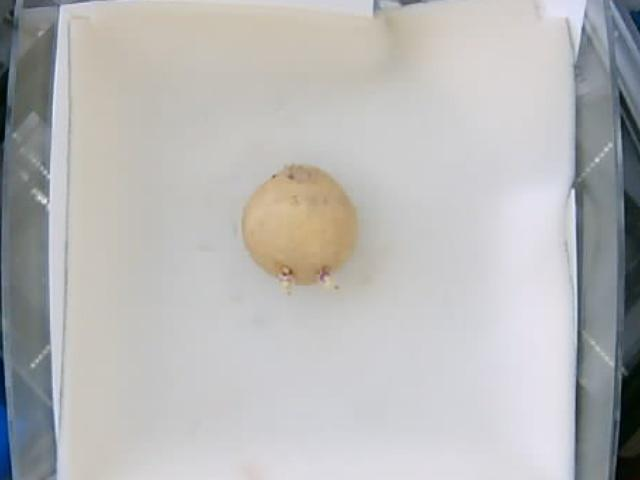Potato: (243, 164, 357, 292)
